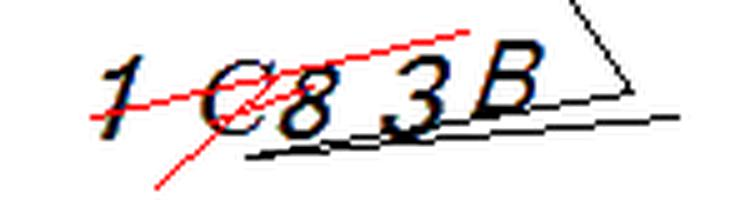1: (86, 47, 148, 147)
3: (374, 49, 459, 145)
8: (275, 63, 349, 142)
B: (470, 30, 556, 124)
C: (191, 48, 280, 141)
